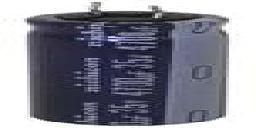Electrolytic-Capacitor: (24, 2, 232, 128)
